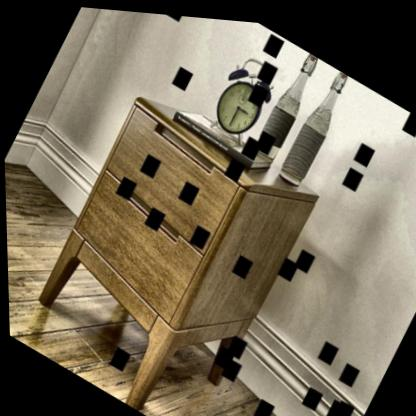Nightstand: (12, 68, 327, 416)
